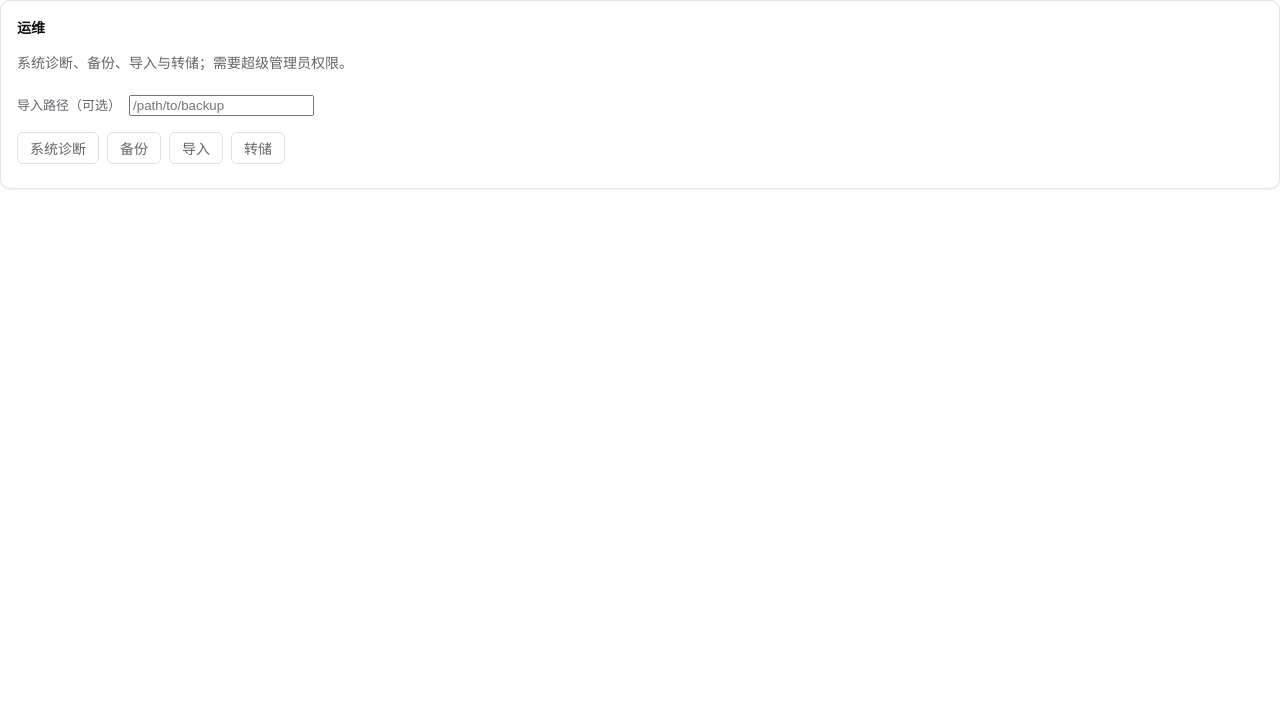
it: OpsPanel T18.4 运维 › runs doctor after confirmation and renders the report
This screenshot has width=1280, height=720.
Click the button with aria-label "运行系统诊断" at (58, 148), box [17, 132, 99, 164]
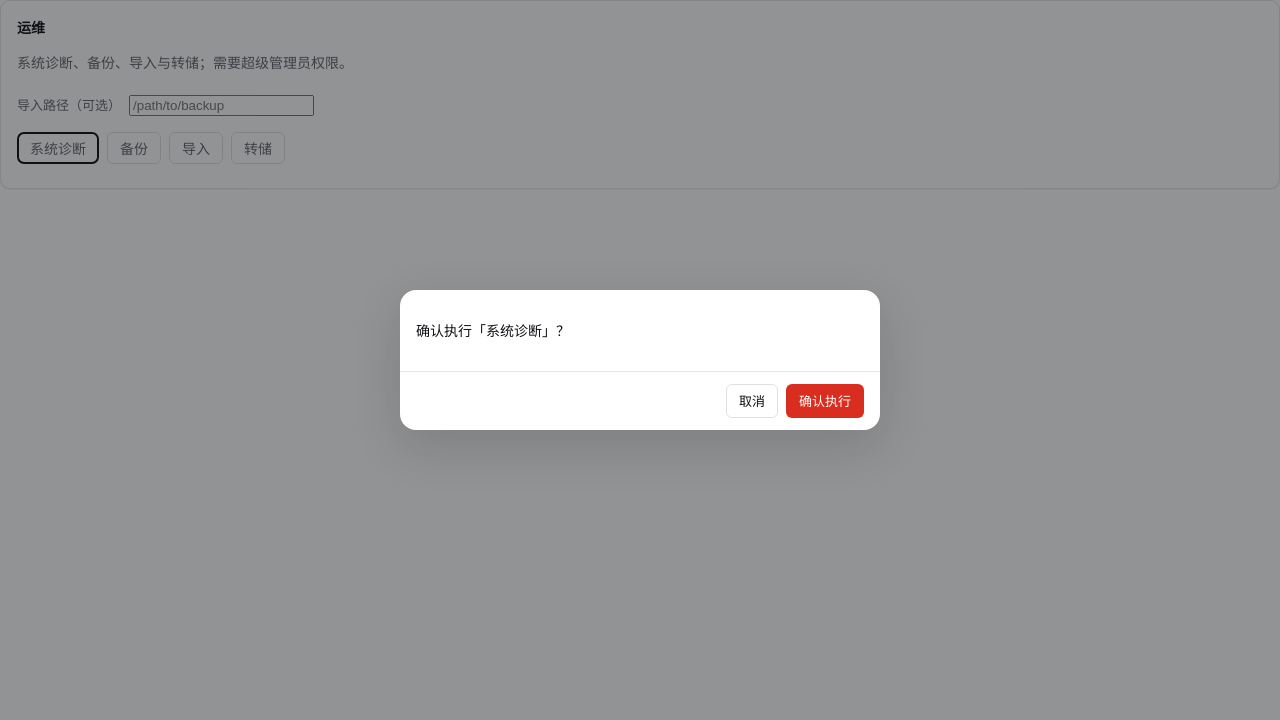
expect the dialog is shown: met, box [400, 290, 880, 430]
Click the button "确认执行" at (825, 401), box [786, 384, 864, 418]
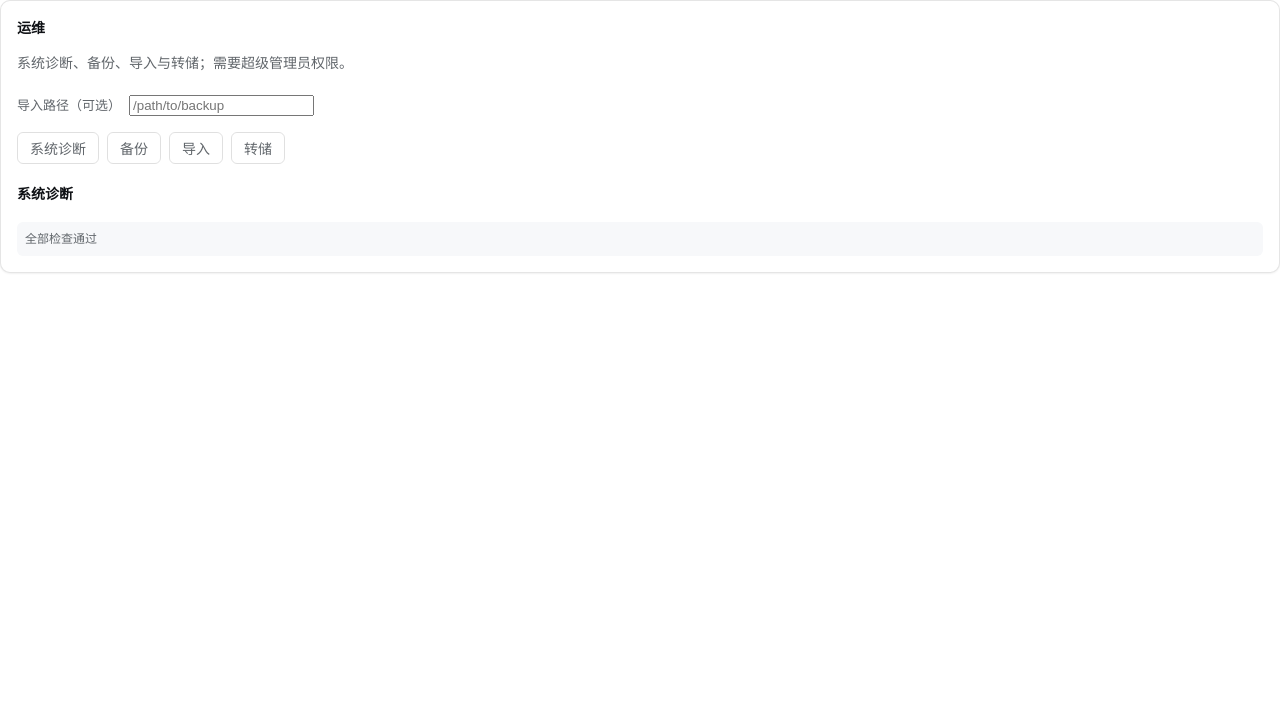
expect the text "全部检查通过" is shown: met, box [17, 222, 1263, 256]
